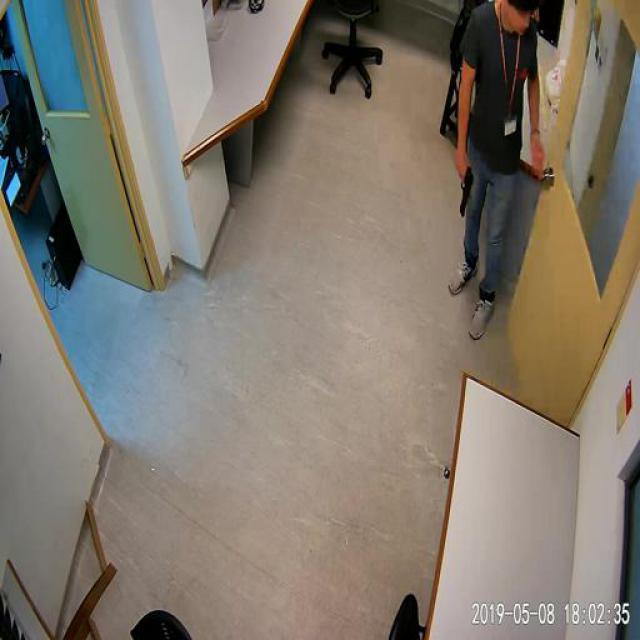Gun: (458, 161, 472, 214)
